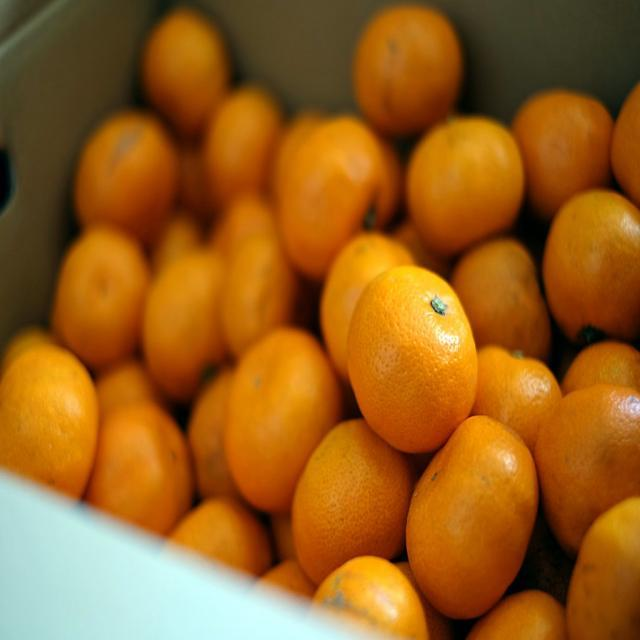Orange: (403, 414, 537, 614), (347, 270, 477, 452), (226, 326, 339, 517), (292, 422, 420, 582), (407, 118, 527, 267), (544, 389, 640, 566), (285, 120, 391, 271), (81, 400, 183, 540), (358, 0, 462, 126), (73, 109, 171, 241), (53, 223, 150, 356), (8, 347, 95, 495), (548, 194, 636, 340), (320, 227, 406, 369), (523, 89, 612, 215), (320, 554, 435, 640), (147, 7, 227, 129), (570, 500, 639, 636), (461, 244, 541, 351), (167, 499, 271, 581), (147, 263, 214, 389), (221, 241, 292, 359), (204, 74, 273, 182), (480, 354, 558, 447), (189, 371, 230, 499), (174, 144, 218, 226), (485, 596, 564, 639), (566, 336, 635, 382), (214, 189, 267, 248), (612, 89, 640, 192), (100, 366, 144, 414), (265, 555, 313, 595)
